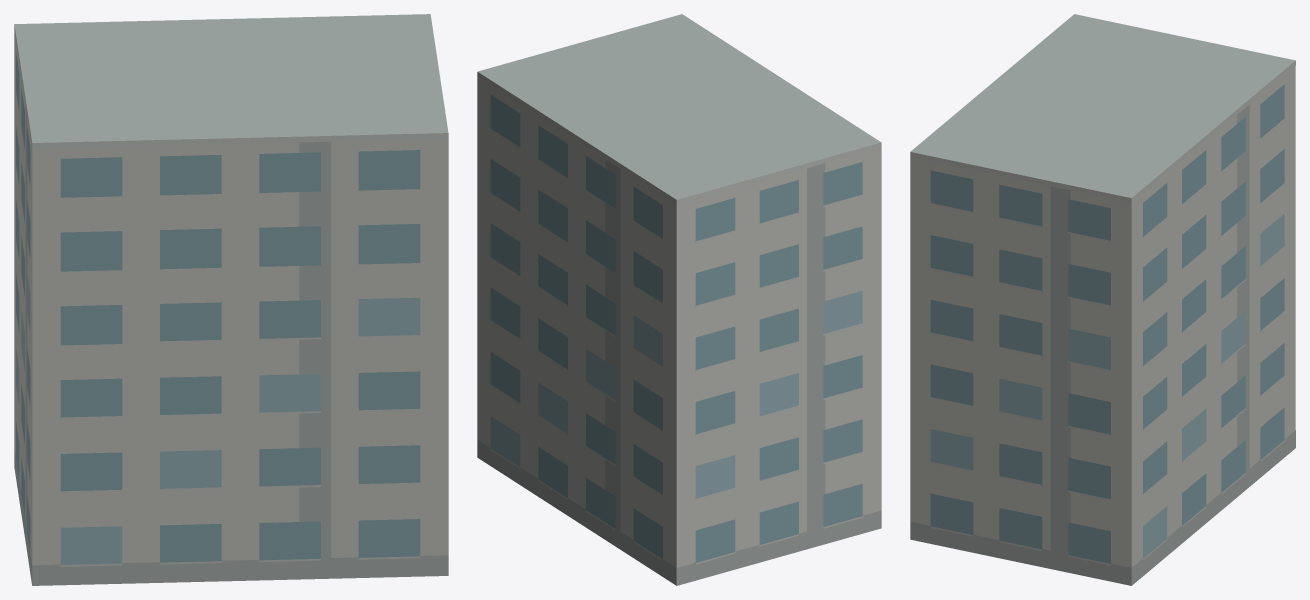
File: survey-upis-32842173.glb
3 renders of one model, left to right at view 1: azimuth 30°, elevation 25°; view 2: azimuth 150°, elevation 25°; view 3: azimuth 270°, elevation 25°, orthographic. The views are drawn at different scales.
Parts seen in each view (by area): view 1: survey-upis-32842173.tmp; view 2: survey-upis-32842173.tmp; view 3: survey-upis-32842173.tmp.
Part boxes in pixels (x1,y1,x2,y2): survey-upis-32842173.tmp: [14, 14, 448, 585]; survey-upis-32842173.tmp: [477, 14, 881, 585]; survey-upis-32842173.tmp: [910, 14, 1295, 585].
Bounding box in the file's own units: 18.65 × 18.3 × 16.5.
